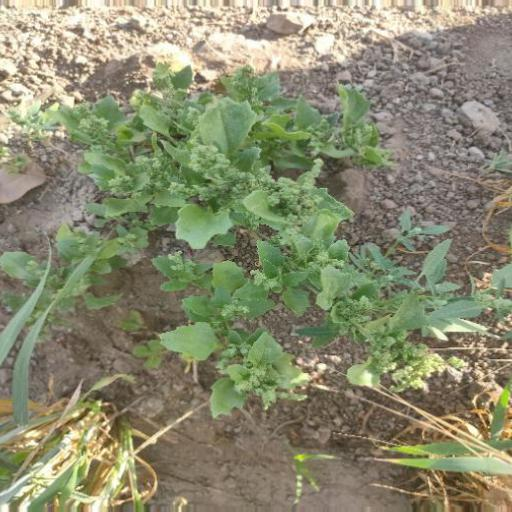weed: (31, 59, 442, 397)
